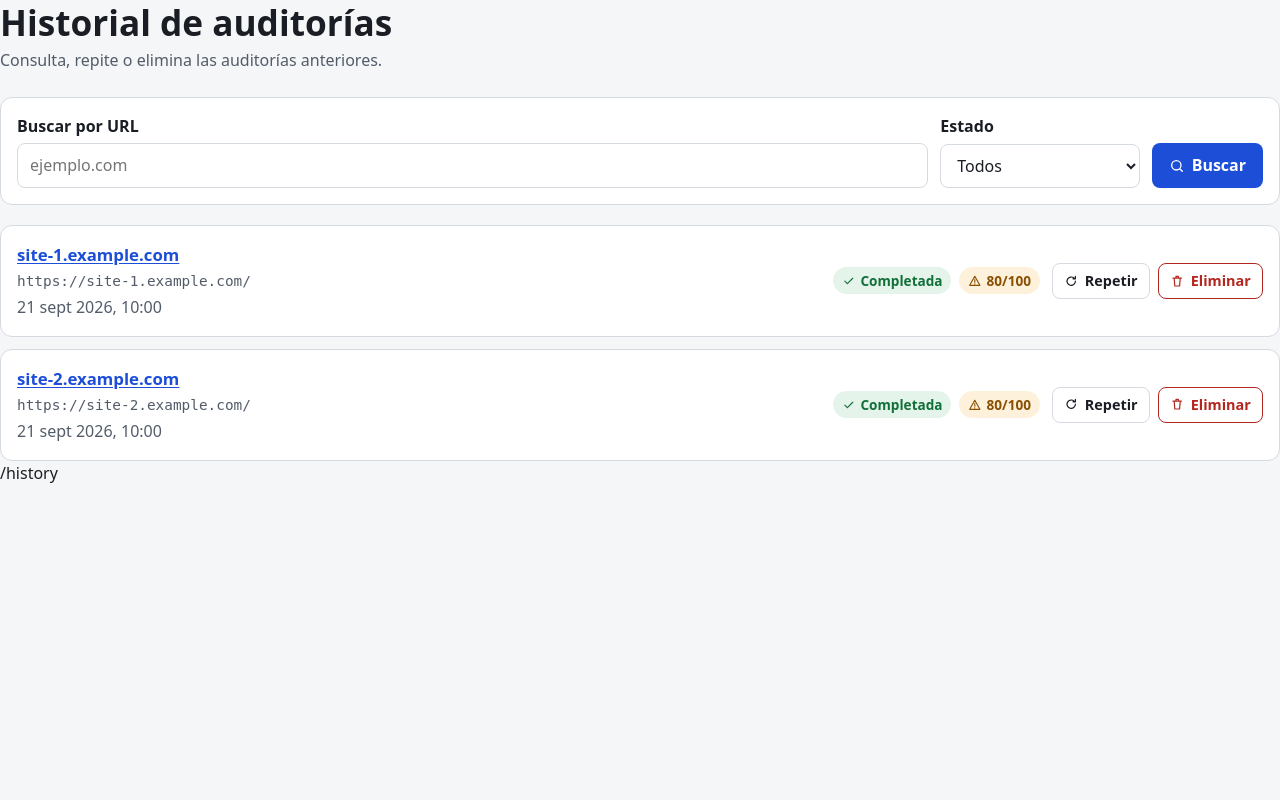
Scenario: HistoryPage › deletes an audit only after confirmation and refreshes the list
Click the button with aria-label "Eliminar la auditoría de site-1.example.com" at (1210, 281), box [1158,263,1263,299]
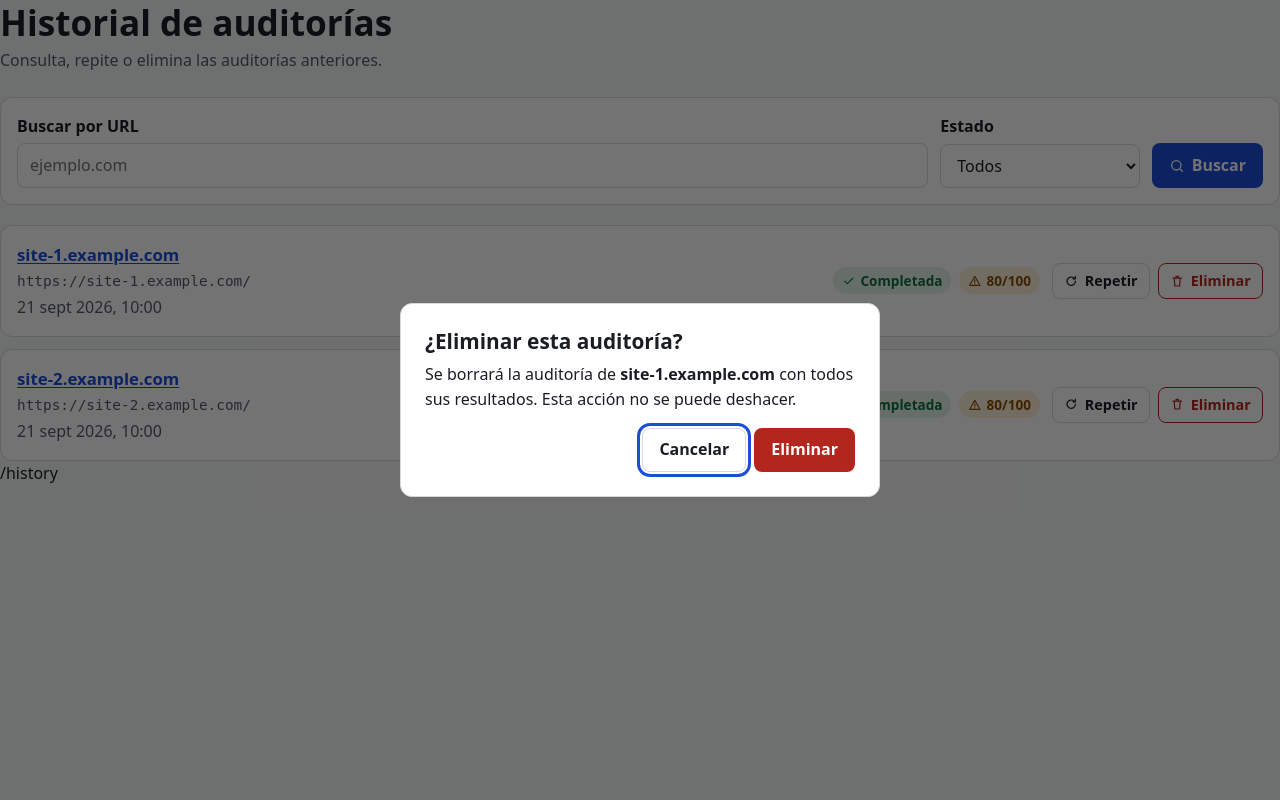
Expected: the dialog "¿Eliminar esta auditoría?" shows "site-1.example.com", [620,363,775,385]
Click the button "Eliminar" at (805, 450), box [754,428,855,472]
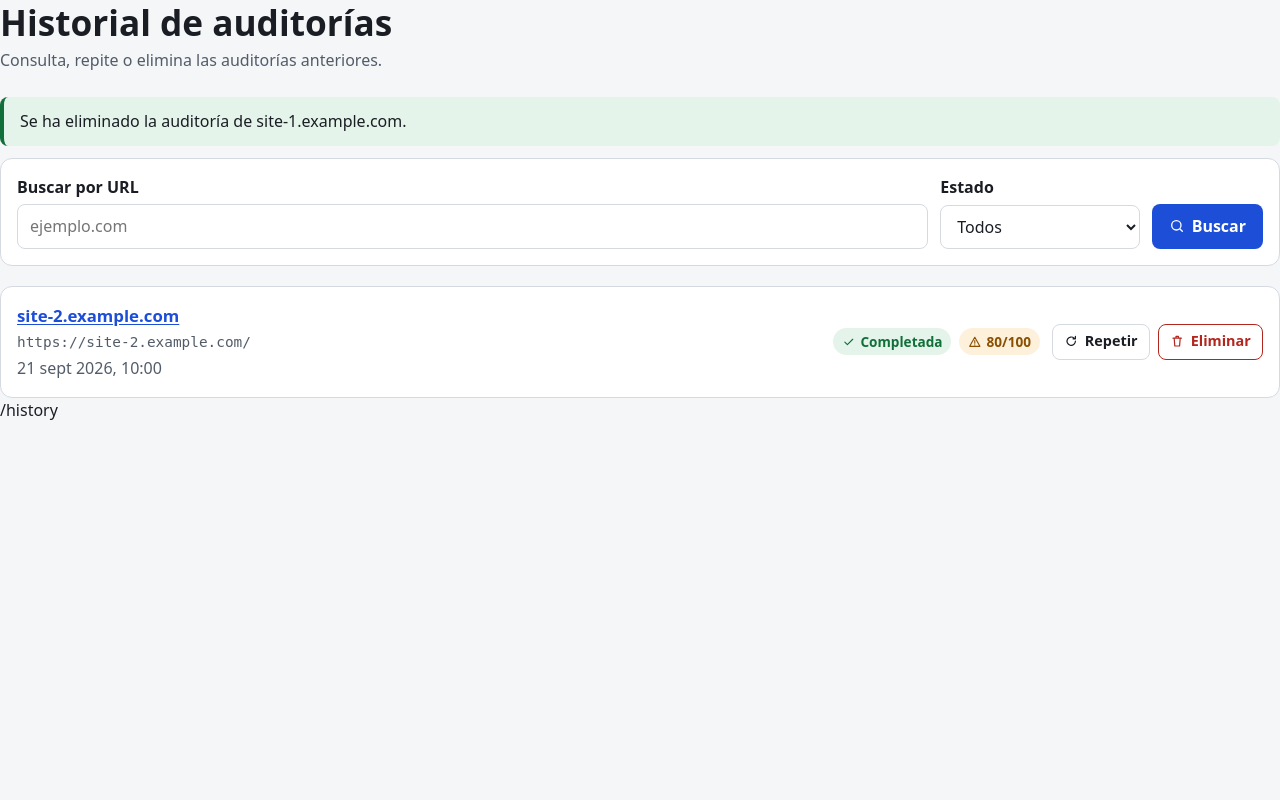
Expected: the text "Se ha eliminado la auditoría de site-1.example.com." is shown, [0,97,1279,146]
Expected: the number of list items is 1, [0,286,1279,398]
